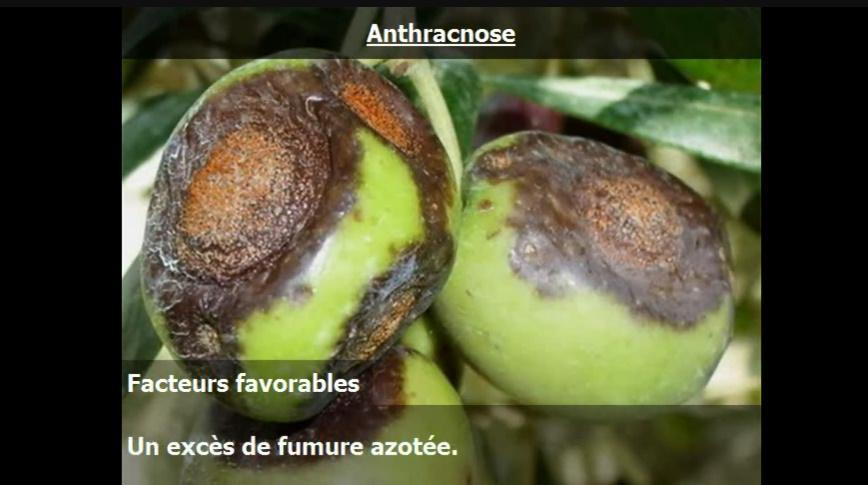Anthracnose: (136, 59, 462, 363), (470, 132, 737, 337)
